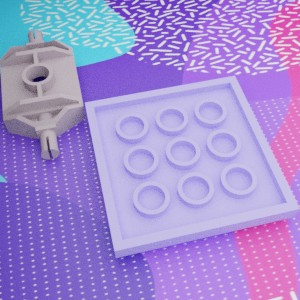lego: (84, 75, 299, 258), (0, 29, 86, 159)
